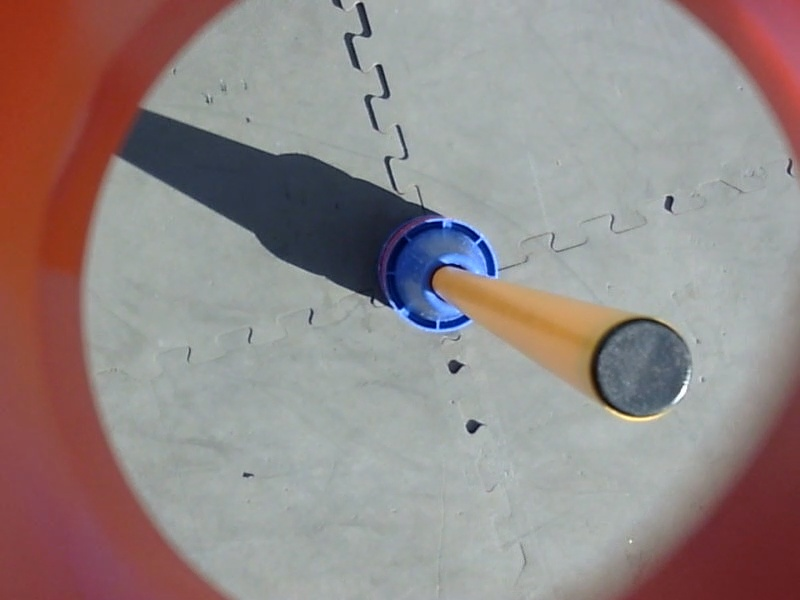tip: (579, 310, 702, 426)
